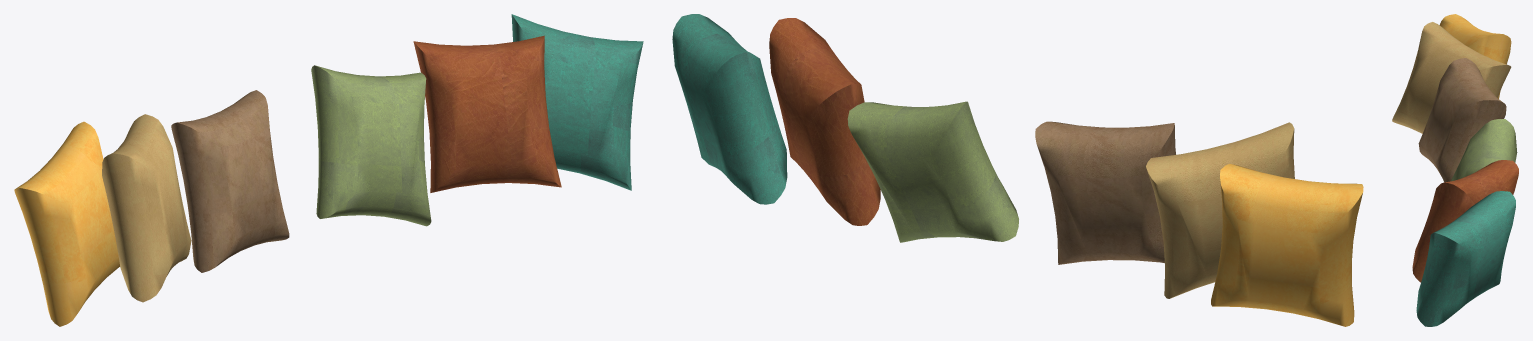
File: pillow.obj
The picture shows the model from 3 angles, left to right: view 1: azimuth 30°, elevation 25°; view 2: azimuth 150°, elevation 25°; view 3: azimuth 270°, elevation 25°; orthographic projection. The views are drawn at different scales.
Parts seen in each view (by area): view 1: Mesh2 tylosand_sofa_pillow_5_1 Group1 Model, Mesh1 tylosand_sofa_pillow_6_1 Group1 Model, Mesh4 tylosand_sofa_pillow_4_1 Group1 Model, Mesh5 tylosand_sofa_pillow_1_1 Group1 Model, Mesh3 tylosand_sofa_pillow_2_1 Group1 Model, Mesh6 tylosand_sofa_pillow_3_1 Group1 Model; view 2: Mesh3 tylosand_sofa_pillow_2_1 Group1 Model, Mesh1 tylosand_sofa_pillow_6_1 Group1 Model, Mesh4 tylosand_sofa_pillow_4_1 Group1 Model, Mesh5 tylosand_sofa_pillow_1_1 Group1 Model, Mesh2 tylosand_sofa_pillow_5_1 Group1 Model, Mesh6 tylosand_sofa_pillow_3_1 Group1 Model; view 3: Mesh5 tylosand_sofa_pillow_1_1 Group1 Model, Mesh4 tylosand_sofa_pillow_4_1 Group1 Model, Mesh6 tylosand_sofa_pillow_3_1 Group1 Model, Mesh2 tylosand_sofa_pillow_5_1 Group1 Model, Mesh1 tylosand_sofa_pillow_6_1 Group1 Model, Mesh3 tylosand_sofa_pillow_2_1 Group1 Model.
Part boxes in pixels (bbox=[...]): Mesh2 tylosand_sofa_pillow_5_1 Group1 Model: bbox=[413, 35, 561, 192]; Mesh1 tylosand_sofa_pillow_6_1 Group1 Model: bbox=[311, 65, 431, 226]; Mesh4 tylosand_sofa_pillow_4_1 Group1 Model: bbox=[171, 90, 289, 272]; Mesh5 tylosand_sofa_pillow_1_1 Group1 Model: bbox=[511, 14, 643, 190]; Mesh3 tylosand_sofa_pillow_2_1 Group1 Model: bbox=[14, 121, 120, 326]; Mesh6 tylosand_sofa_pillow_3_1 Group1 Model: bbox=[102, 114, 191, 302]; Mesh3 tylosand_sofa_pillow_2_1 Group1 Model: bbox=[1211, 164, 1363, 326]; Mesh1 tylosand_sofa_pillow_6_1 Group1 Model: bbox=[847, 101, 1018, 242]; Mesh4 tylosand_sofa_pillow_4_1 Group1 Model: bbox=[1035, 121, 1175, 264]; Mesh5 tylosand_sofa_pillow_1_1 Group1 Model: bbox=[672, 14, 787, 204]; Mesh2 tylosand_sofa_pillow_5_1 Group1 Model: bbox=[769, 18, 880, 225]; Mesh6 tylosand_sofa_pillow_3_1 Group1 Model: bbox=[1146, 122, 1294, 298]; Mesh5 tylosand_sofa_pillow_1_1 Group1 Model: bbox=[1416, 191, 1515, 326]; Mesh4 tylosand_sofa_pillow_4_1 Group1 Model: bbox=[1418, 58, 1506, 182]; Mesh6 tylosand_sofa_pillow_3_1 Group1 Model: bbox=[1392, 22, 1511, 133]; Mesh2 tylosand_sofa_pillow_5_1 Group1 Model: bbox=[1412, 160, 1518, 282]; Mesh1 tylosand_sofa_pillow_6_1 Group1 Model: bbox=[1451, 119, 1517, 181]; Mesh3 tylosand_sofa_pillow_2_1 Group1 Model: bbox=[1439, 14, 1511, 98].
Size of the model in its own units: 70.22 by 18.04 by 16.83.
6 materials, 6 textured.
